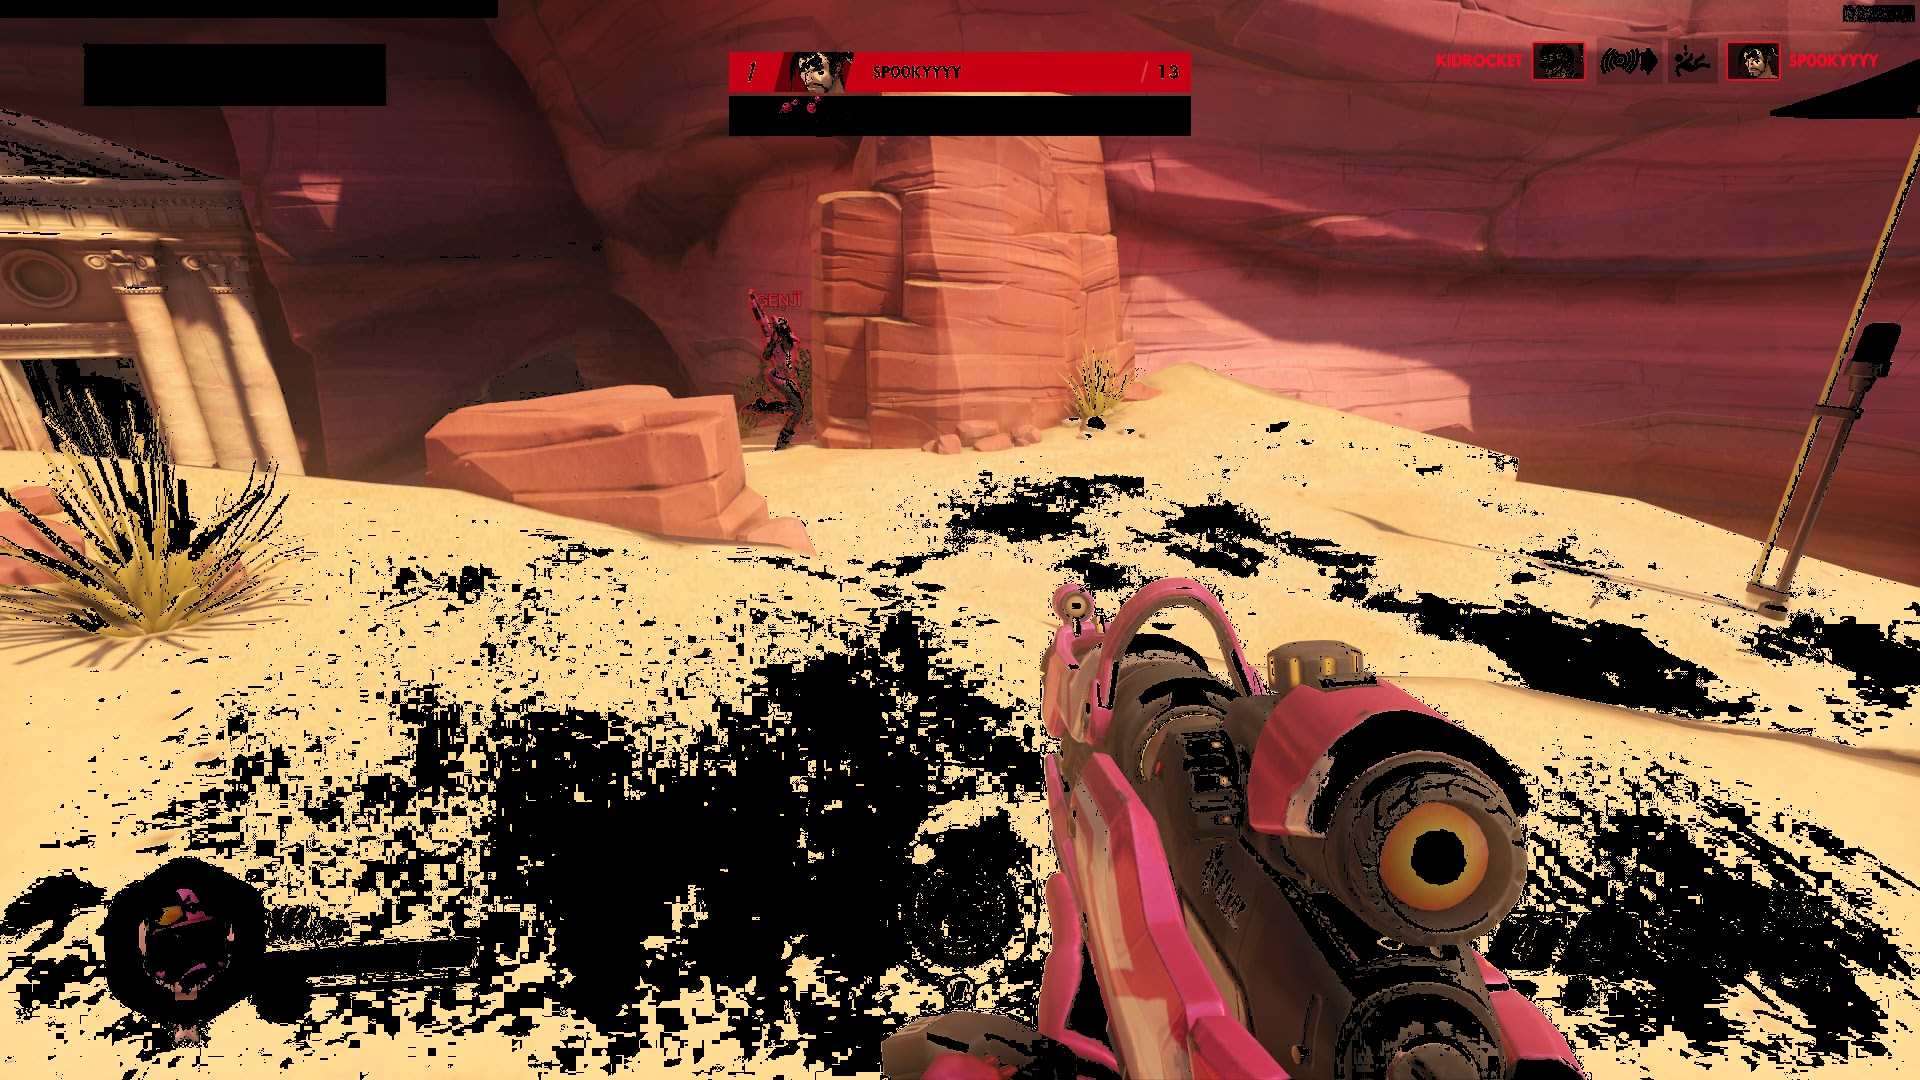widowmaker: (742, 314, 808, 454)
